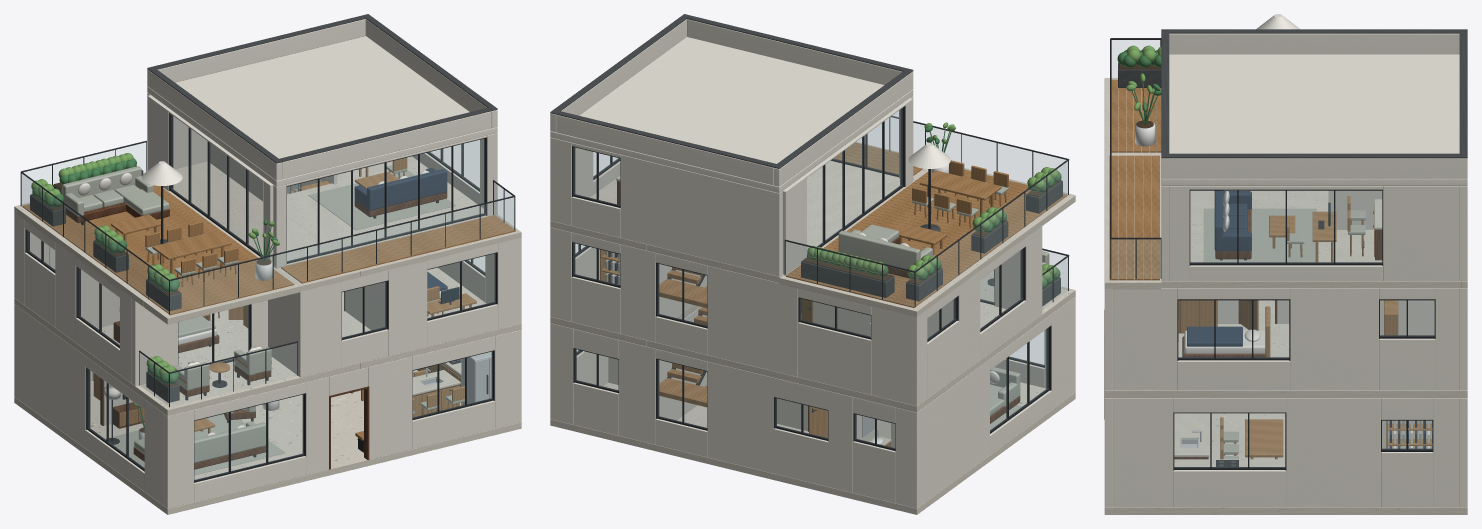
The model's file is House_3F_Full_Complete_Astra.glb.
3 views of the same model, side by side, from view 1: azimuth 30°, elevation 25°; view 2: azimuth 150°, elevation 25°; view 3: azimuth 270°, elevation 25° (orthographic). The views are drawn at different scales.
Parts seen in each view (by area): view 1: 3F_ROOF_LID, W301, 3F_Glass_Railing, 1F_Floor_0, 1F_West_Wall.003, W101, 2F_Floor_0, D301, 3F_Glass_Railing.001, 1F_South_Wall.005, 2F_South_Wall, 3F_Parapet.002 (+89 smaller); view 2: 3F_ROOF_LID, 3F_North_Wall, 2F_North_Wall.003, D301, 1F_West_Wall.003, 1F_North_Wall.006, 3F_Glass_Railing.001, 1F_Floor_0, 2F_North_Wall, 3F_Glass_Railing.002, 2F_North_Wall.001, 3F_Parapet.003 (+72 smaller); view 3: 3F_ROOF_LID, W302, 1F_East_Wall.003, 2F_East_Wall.003, 3F_East_Wall.003, 1F_East_Wall, 2F_East_Wall, 3F_Parapet.001, 3F_Parapet, W208, W108, 1F_Floor_0 (+68 smaller).
Part boxes in pixels (<box>): 3F_ROOF_LID: <box>147,36,497,186</box>; W301: <box>287,139,484,260</box>; 3F_Glass_Railing: <box>170,197,513,313</box>; 1F_Floor_0: <box>14,370,521,514</box>; 1F_West_Wall.003: <box>17,307,90,447</box>; W101: <box>194,395,303,479</box>; 2F_Floor_0: <box>14,298,360,415</box>; D301: <box>171,115,262,254</box>; 3F_Glass_Railing.001: <box>22,174,168,313</box>; 1F_South_Wall.005: <box>368,356,412,459</box>; 2F_South_Wall: <box>297,282,341,377</box>; 3F_Parapet.002: <box>282,111,491,179</box>; 3F_ROOF_LID: <box>550,37,913,193</box>; 3F_North_Wall: <box>620,154,782,276</box>; 2F_North_Wall.003: <box>707,265,798,376</box>; D301: <box>807,108,902,248</box>; 1F_West_Wall.003: <box>920,359,989,505</box>; 1F_North_Wall.006: <box>707,361,773,473</box>; 3F_Glass_Railing.001: <box>916,162,1067,305</box>; 1F_Floor_0: <box>550,382,1075,514</box>; 2F_North_Wall: <box>871,306,920,405</box>; 3F_Glass_Railing.002: <box>786,242,914,306</box>; 2F_North_Wall.001: <box>798,322,871,394</box>; 3F_Parapet.003: <box>556,115,773,185</box>; 3F_ROOF_LID: <box>1161,54,1467,185</box>; W302: <box>1190,191,1381,262</box>; 1F_East_Wall.003: <box>1286,398,1380,507</box>; 2F_East_Wall.003: <box>1290,288,1378,390</box>; 3F_East_Wall.003: <box>1383,186,1459,280</box>; 1F_East_Wall: <box>1113,398,1173,507</box>; 2F_East_Wall: <box>1113,288,1177,390</box>; 3F_Parapet.001: <box>1161,158,1467,178</box>; 3F_Parapet: <box>1169,33,1459,54</box>; W208: <box>1178,300,1288,357</box>; W108: <box>1174,413,1284,467</box>; 1F_Floor_0: <box>1104,413,1467,514</box>.
Size of the model in its own units: 12 by 9.8 by 9.02.
Materials: 17 (8 with a texture image).
